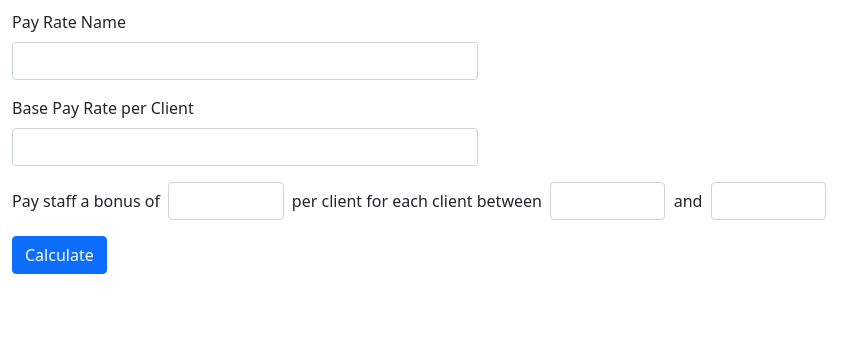
it: CalculatorForm › basePayRate field validations › renders error message when field value contains less than 3 characters
Type "0" into the number field labelled "Base Pay Rate per Client" at [245, 147], box [12, 128, 478, 166]
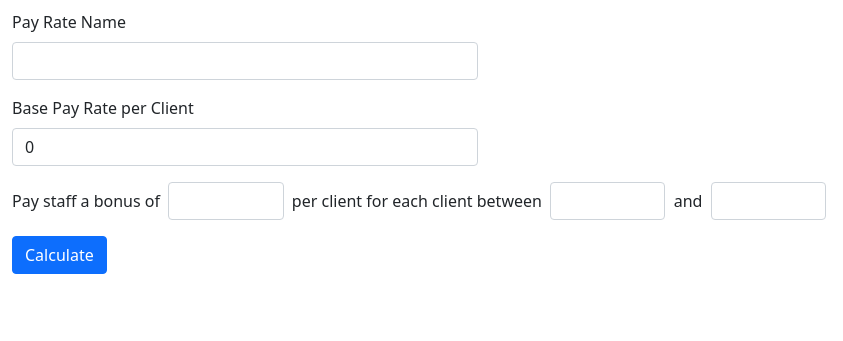
Submit the form from the button, box [12, 236, 107, 274]
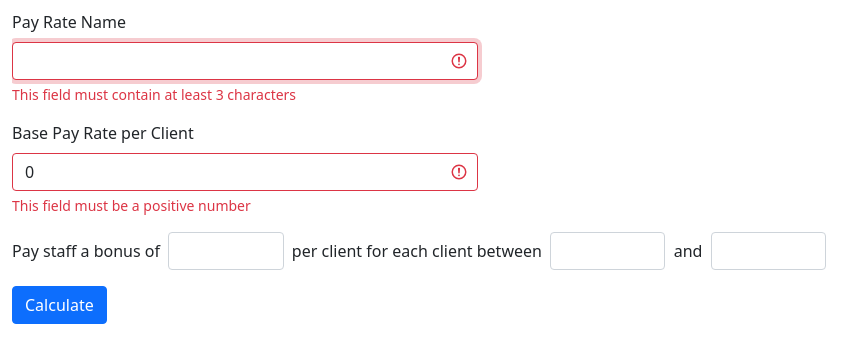
Result: the text "This field must be a positive number" is shown at [12, 196, 251, 215]
